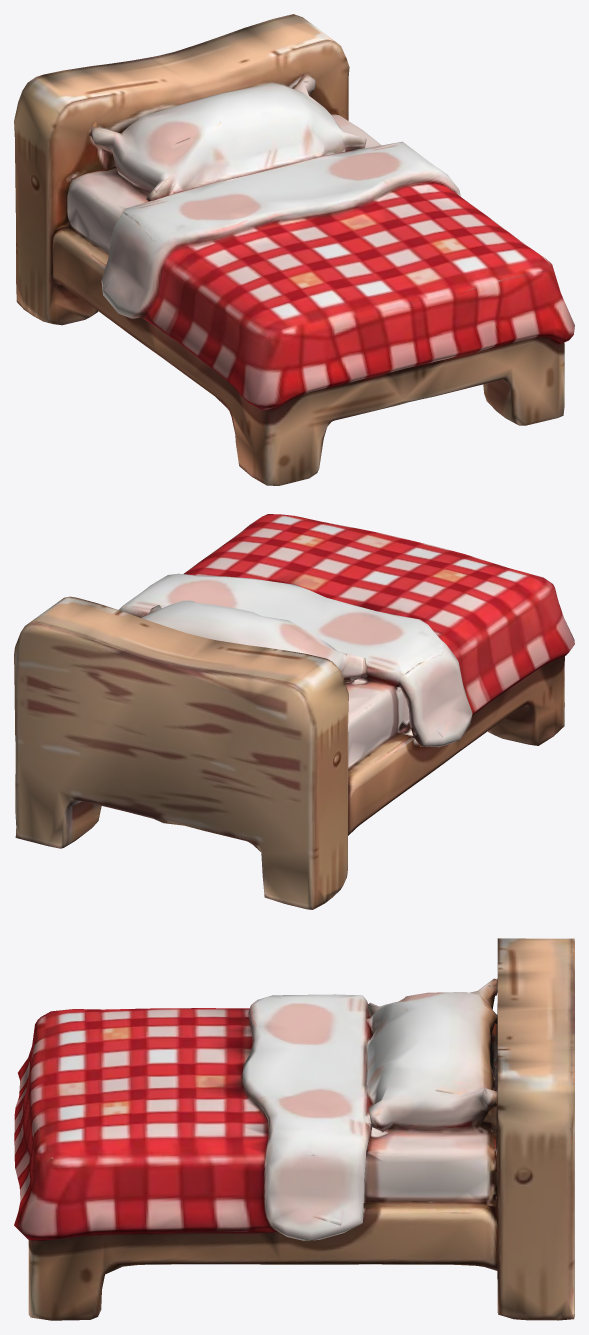
File: Cozy_bed.glb
3 renders of one model, top to bottom at view 1: azimuth 30°, elevation 25°; view 2: azimuth 150°, elevation 25°; view 3: azimuth 270°, elevation 25°, orthographic. The views are drawn at different scales.
Parts seen in each view (by area): view 1: Mesh1.0; view 2: Mesh1.0; view 3: Mesh1.0.
Boxes of the visible parts, x1,y1,x2,y2 form: Mesh1.0: (14, 14, 574, 485); Mesh1.0: (14, 514, 574, 909); Mesh1.0: (14, 938, 574, 1320).
Size of the model in its own units: 1.52 by 0.9323 by 2.01.
Materials: 1 (1 with a texture image).
